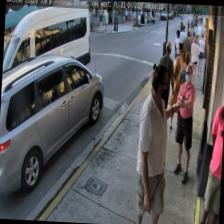person: (133, 62, 185, 224), (172, 64, 196, 183)
